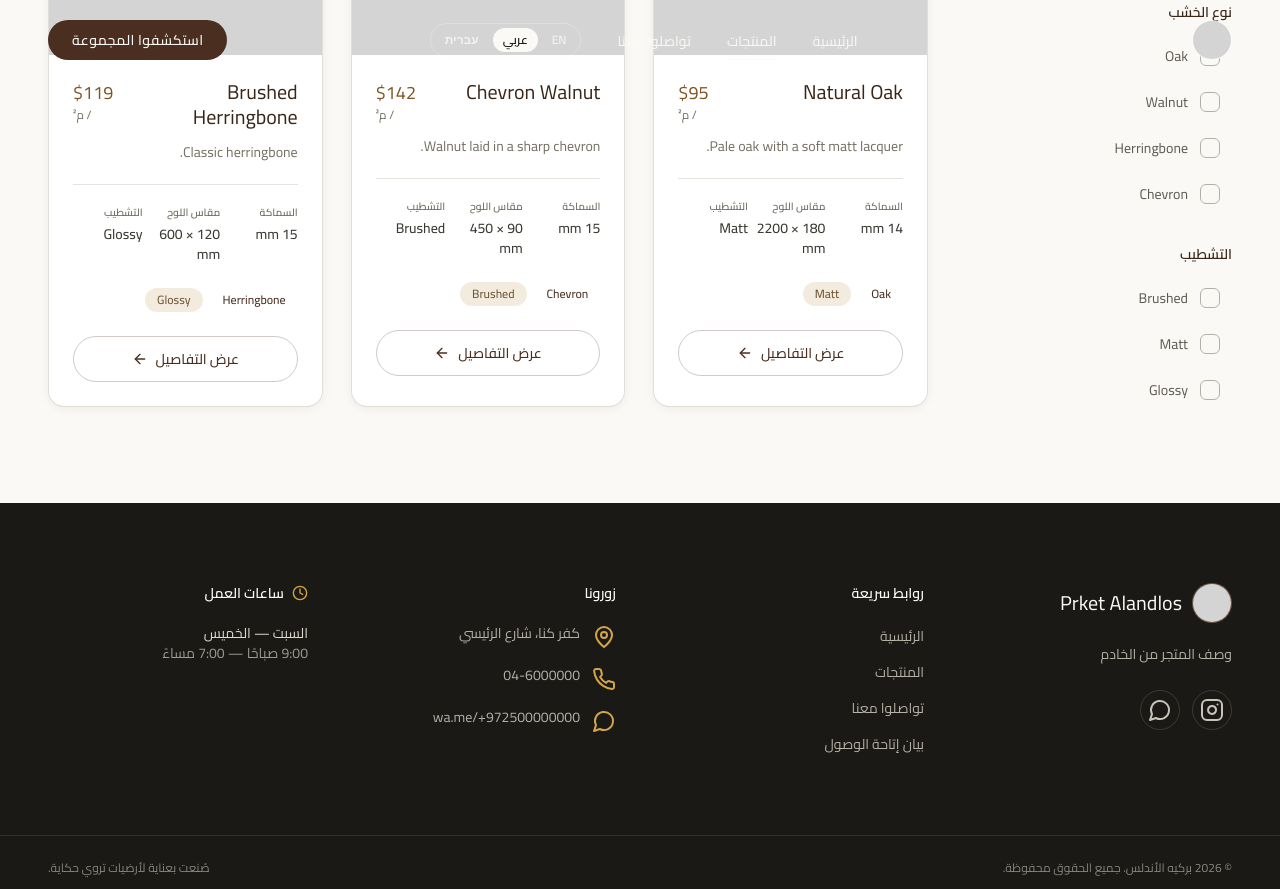
it: accessibility statement › is linked from the footer on every page
The width and height of the screenshot is (1280, 889).
(page scrolled)
Click the link "بيان إتاحة الوصول": (874, 744) [824, 731, 924, 757]
(page scrolled)
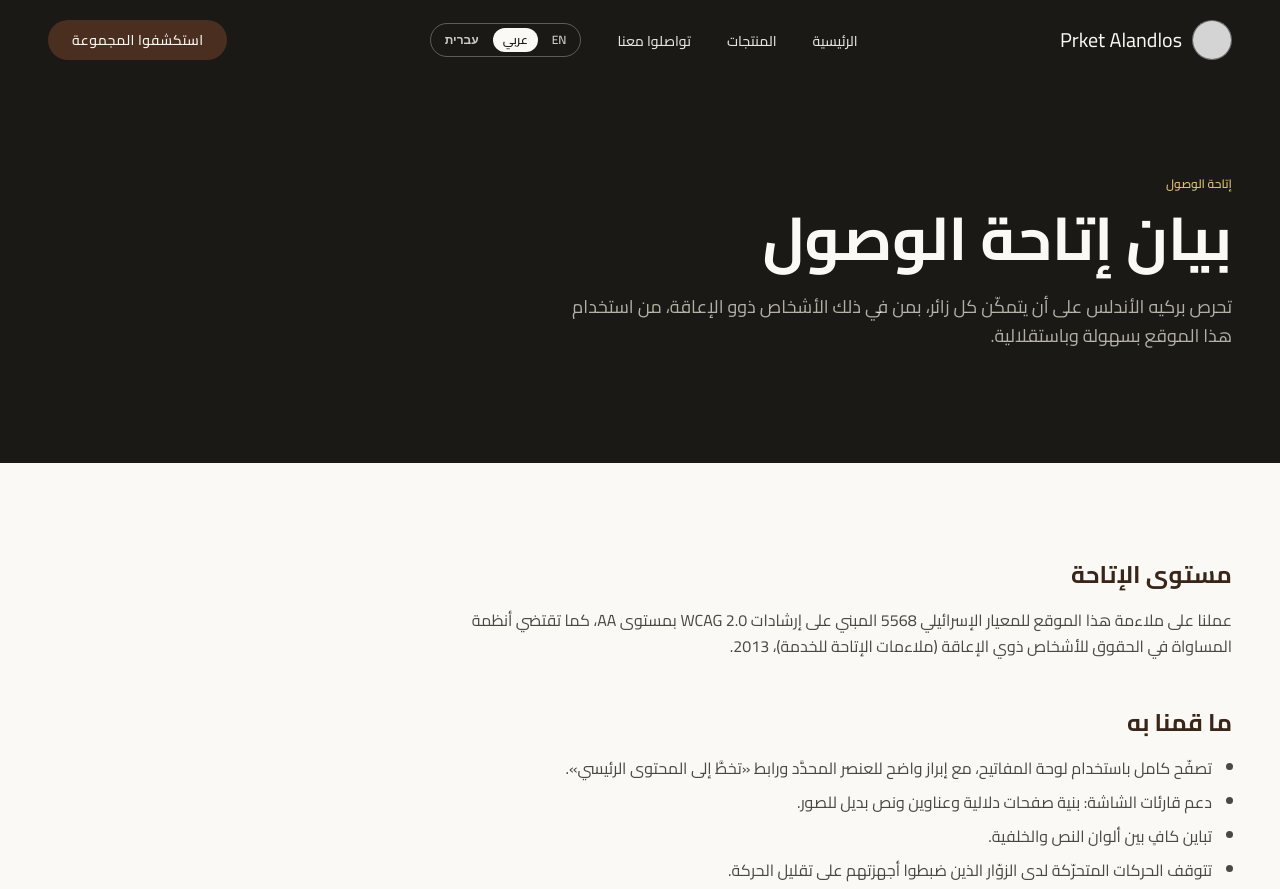
Result: the heading "بيان إتاحة الوصول" is shown at [762, 182, 1232, 294]
